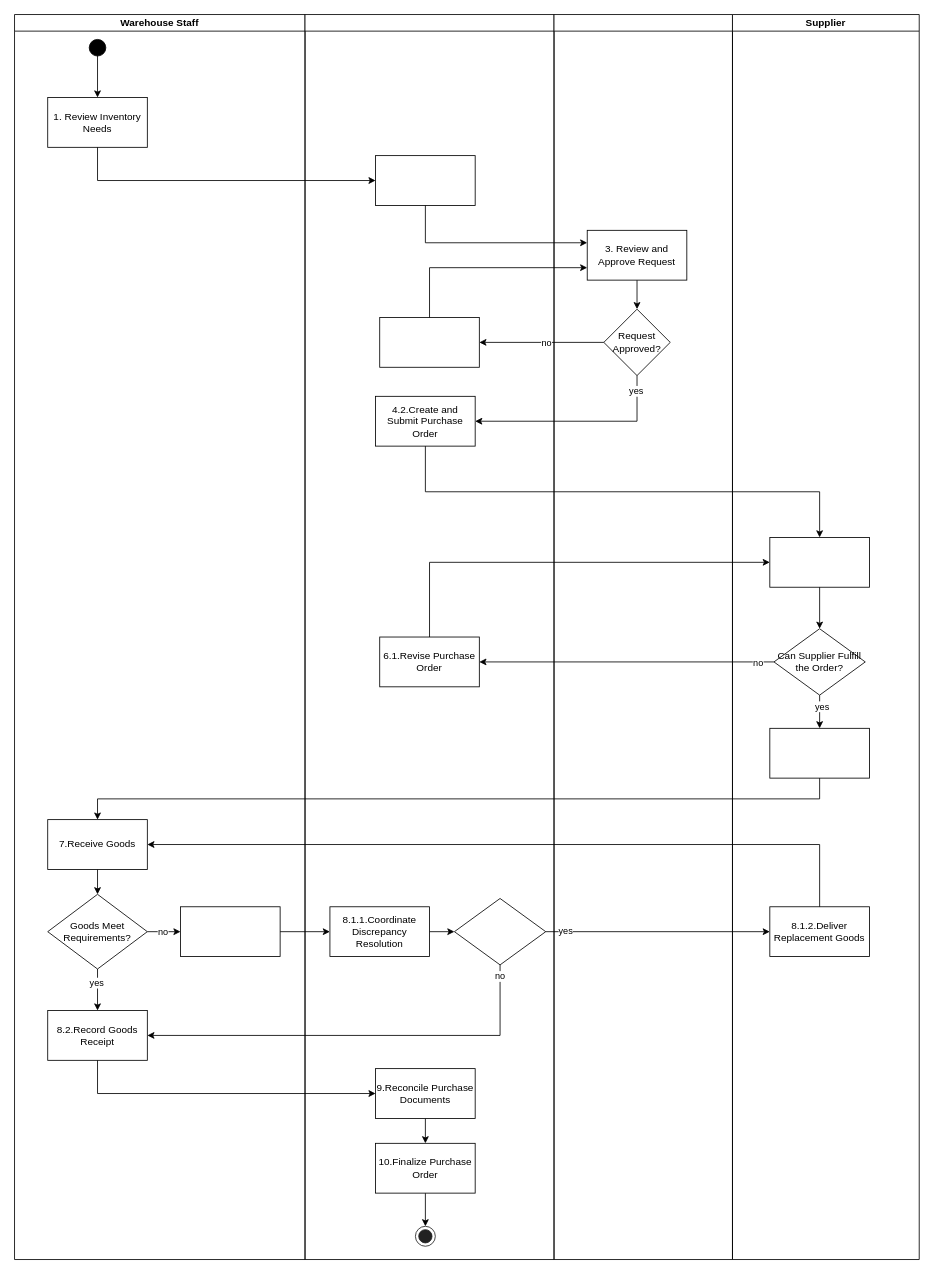
This 934x1274 diagram has some shape labels left out. Each missing label, with the box of its shape:
2. Prepare Purchase Request: (375, 155, 475, 205)
4.1.Revise Request: (379, 317, 479, 367)
5.Confirm Order Availability: (769, 537, 869, 587)
6.2.Prepare and Deliver Goods: (769, 727, 869, 778)
8.1.0.Record Receipt Discrepancies: (180, 906, 280, 957)
Accounting Staff: (304, 14, 554, 1260)
Owner: (553, 14, 732, 1260)
Replacement Required?: (454, 898, 546, 965)
